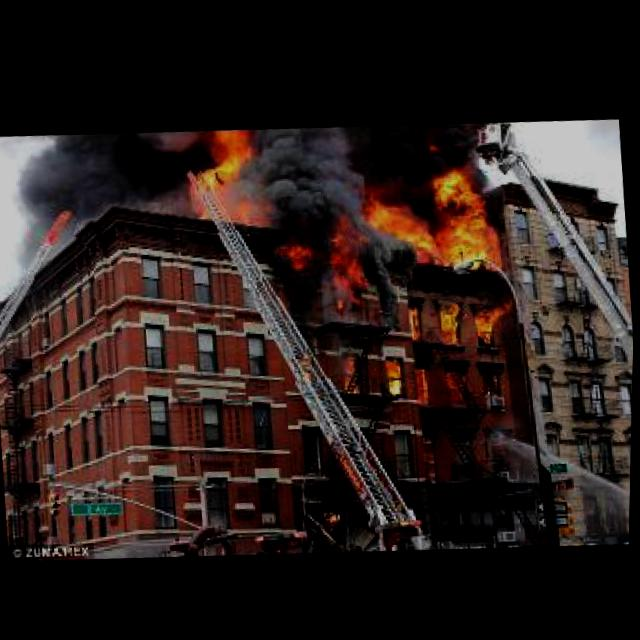Fire: (391, 183, 516, 394), (281, 231, 371, 302), (191, 121, 247, 212), (378, 348, 407, 393)
Smoke: (0, 119, 197, 278), (247, 112, 391, 257), (350, 104, 511, 196)
